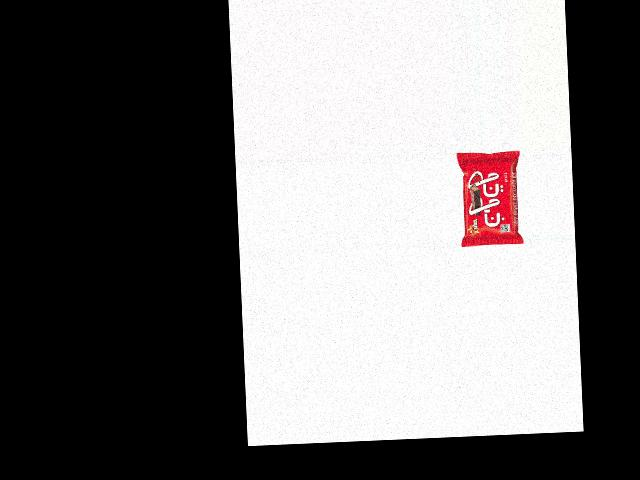chocolate: (457, 150, 524, 246)
